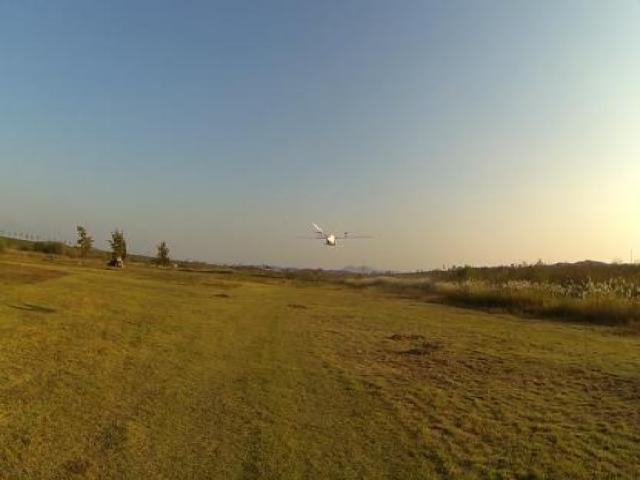uav: (283, 218, 382, 260)
